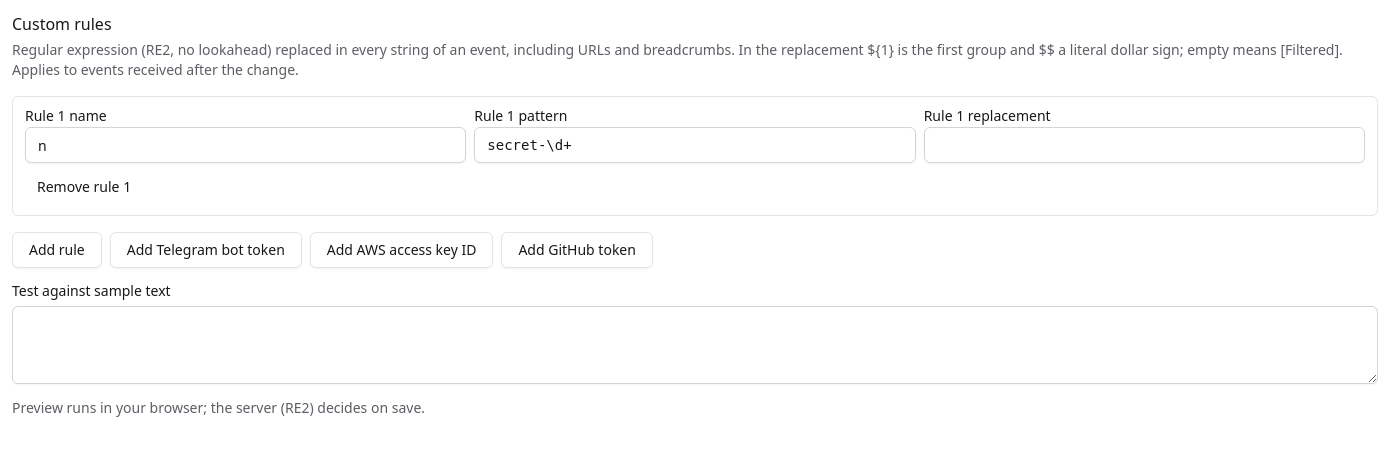
Test: ScrubRulesEditor › previews the rules against sample text
This screenshot has width=1390, height=461.
In the text box labelled "Test against sample text": [695, 345] box [12,306,1378,384], type "id secret-42 end"
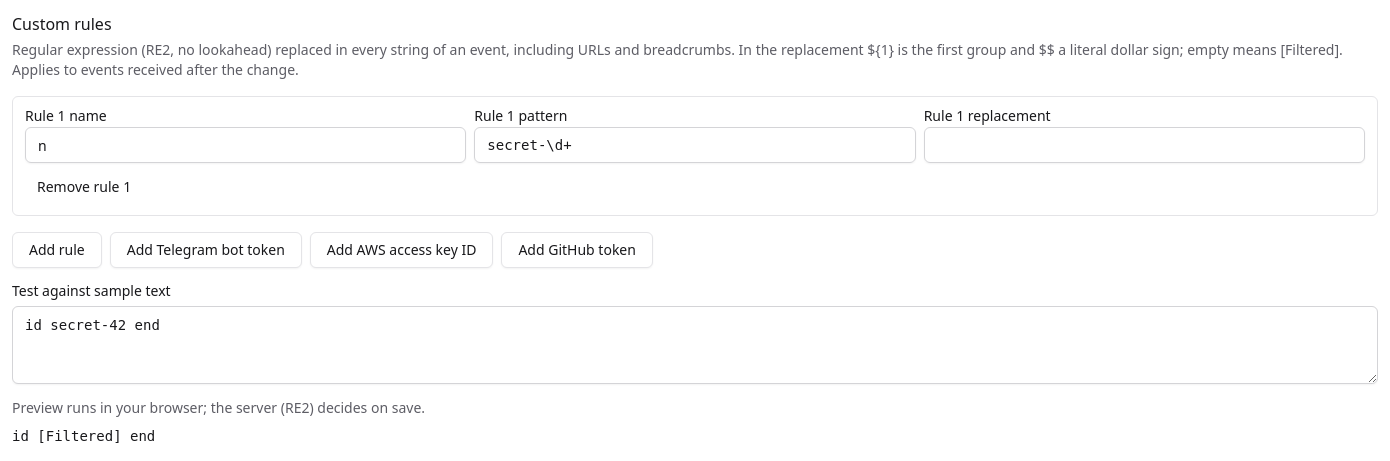
Result: the text named "Result" reads "id [Filtered] end" at [12,428,155,444]
